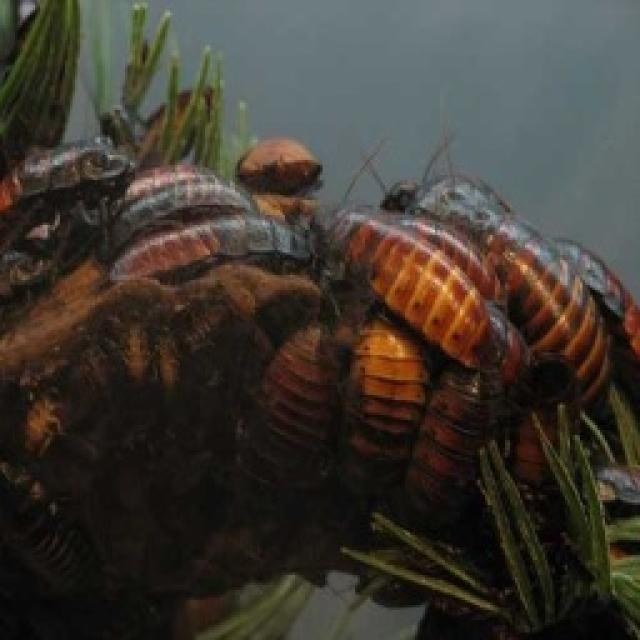cockroach: (323, 195, 503, 372), (109, 215, 333, 297)
